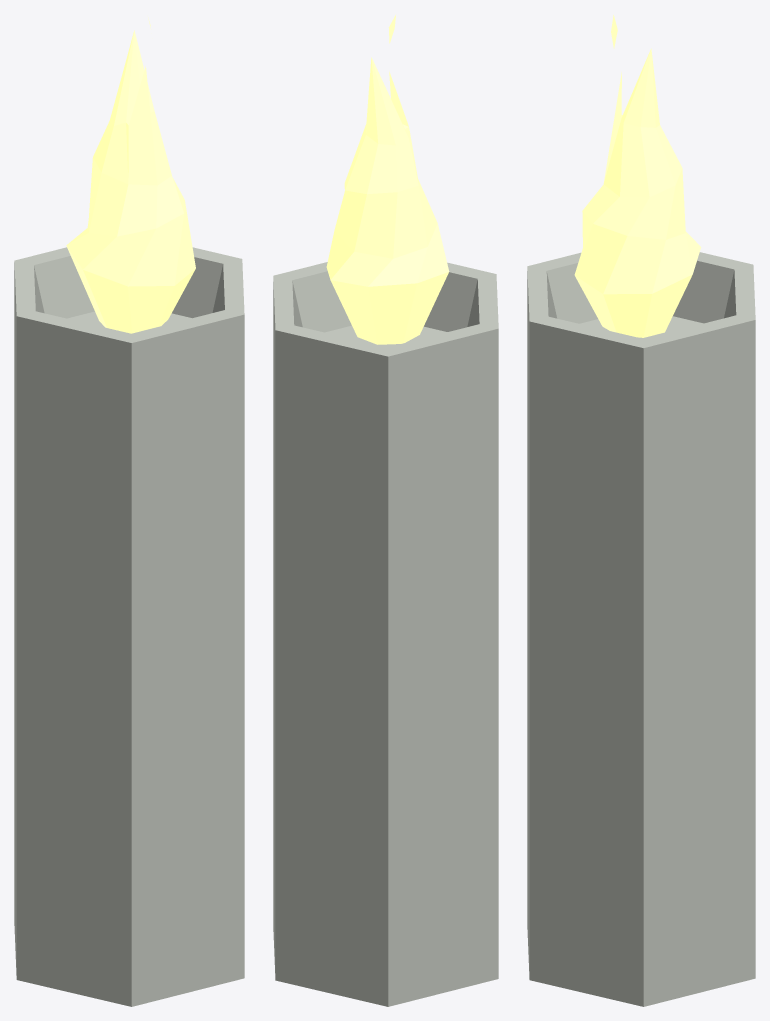
Rendered from candle_3.fbx.
The picture shows the model from 3 angles, left to right: view 1: azimuth 30°, elevation 25°; view 2: azimuth 150°, elevation 25°; view 3: azimuth 270°, elevation 25°; orthographic projection. The views are drawn at different scales.
Parts seen in each view (by area): view 1: candle_3; view 2: candle_3; view 3: candle_3.
Part boxes in pixels (left/top/right/bottom): candle_3: left=14, top=17, right=244, bottom=1006; candle_3: left=273, top=15, right=498, bottom=1006; candle_3: left=527, top=15, right=755, bottom=1006.
Size of the model in its own units: 8.48 by 33.67 by 7.42.
